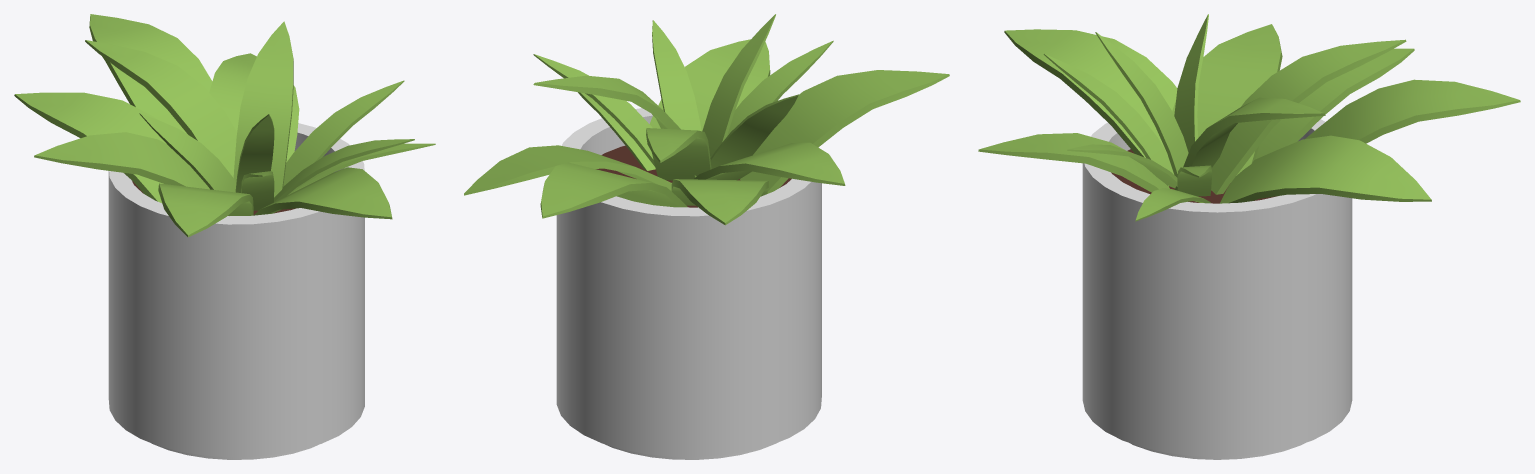
The model's file is planta.fbx.
3 renders of one model, left to right at view 1: azimuth 30°, elevation 25°; view 2: azimuth 150°, elevation 25°; view 3: azimuth 270°, elevation 25°, orthographic. The views are drawn at different scales.
Visible parts, largest first — view 1: planta; view 2: planta; view 3: planta.
Boxes of the visible parts, x1,y1,x2,y2 form: planta: (14, 14, 435, 459); planta: (464, 14, 949, 459); planta: (978, 14, 1520, 459).
Size of the model in its own units: 183 by 180 by 242.
